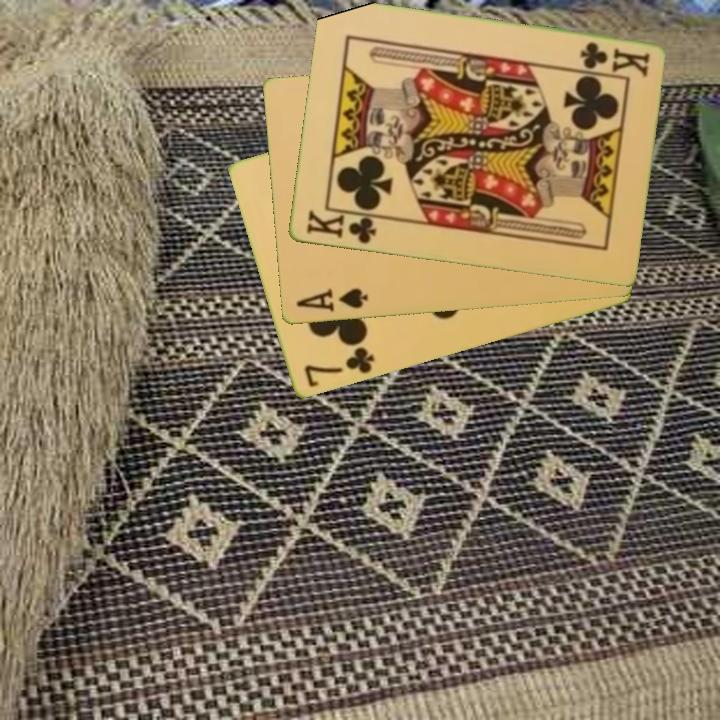7c: (300, 343, 377, 391)
As: (292, 285, 371, 315)
Kc: (302, 206, 384, 247), (576, 38, 652, 79)
